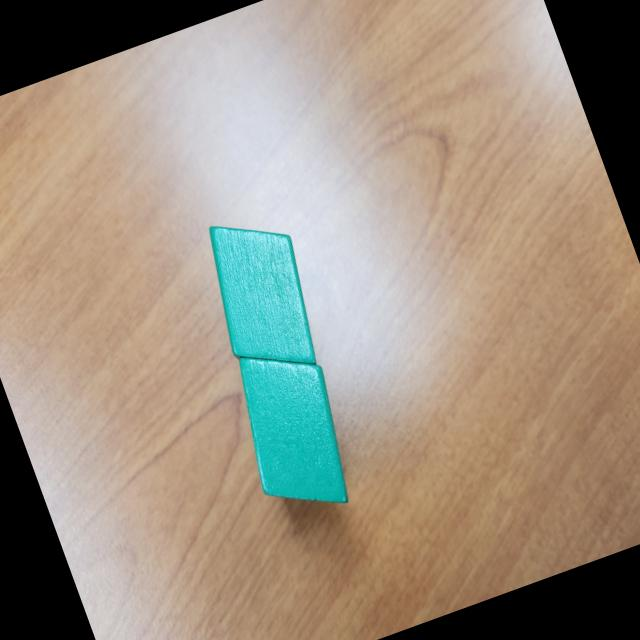green: (216, 330, 372, 530), (187, 200, 336, 390)
